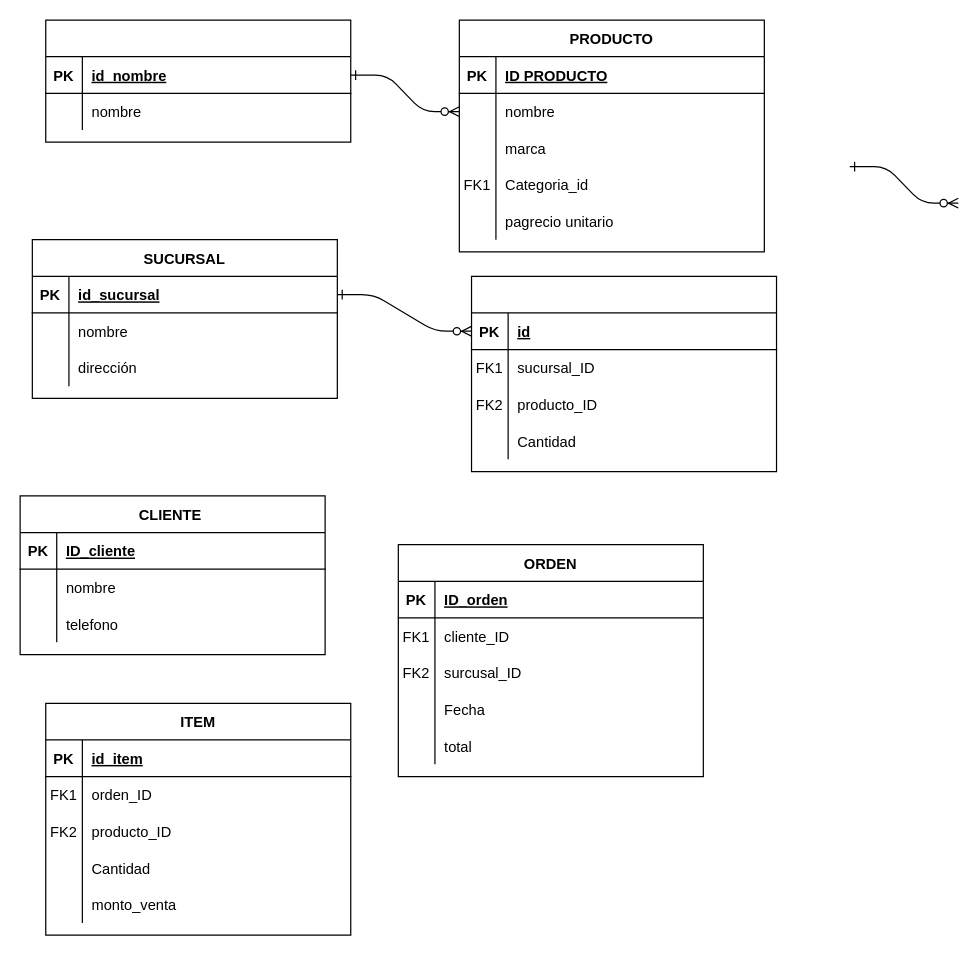
This 978x955 diagram has some shape labels left out. Each missing label, with the box of its shape:
CATEGORIA: (45, 19, 351, 142)
STOCK: (470, 275, 777, 472)
